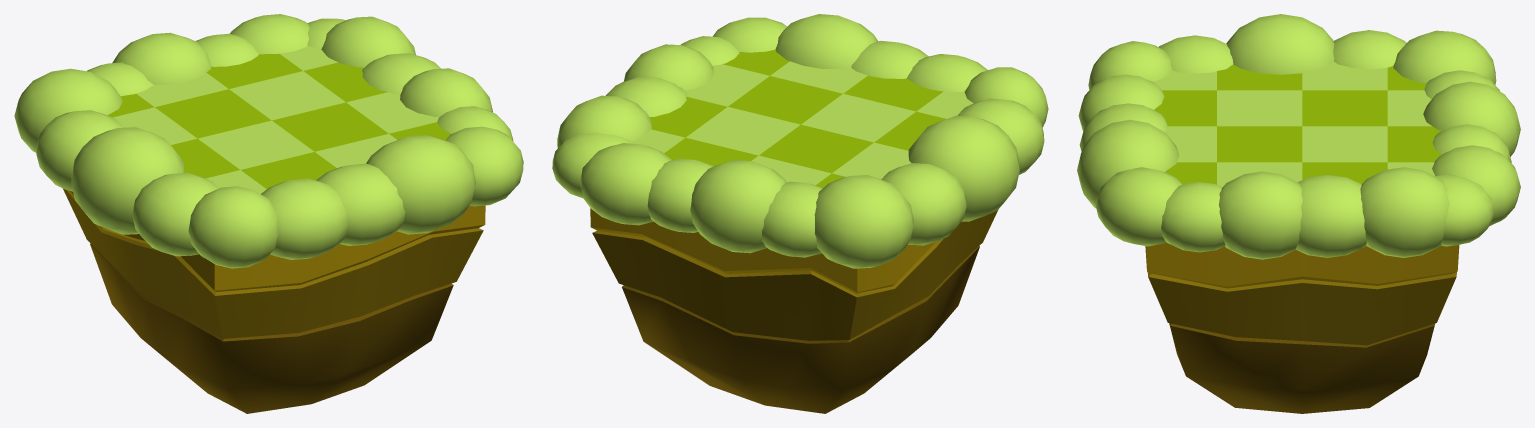
File: Tile (1).fbx
3 views of the same model, side by side, from view 1: azimuth 30°, elevation 25°; view 2: azimuth 150°, elevation 25°; view 3: azimuth 270°, elevation 25° (orthographic).
Visible parts, largest first — view 1: Tile; view 2: Tile; view 3: Tile.
Part boxes in pixels (box(x1,y1,x2,y2)): Tile: box(14, 14, 523, 413); Tile: box(552, 14, 1048, 413); Tile: box(1077, 14, 1520, 413).
Bounding box in the file's own units: 14.26 × 10.6 × 13.89.
